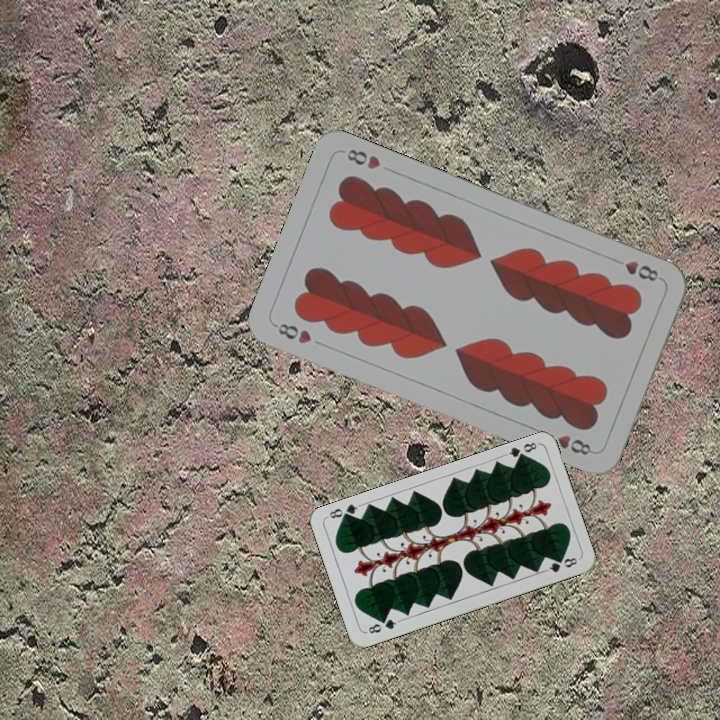G8: (501, 438, 541, 464), (362, 615, 402, 636)
H8: (608, 254, 661, 284), (270, 319, 314, 347)
